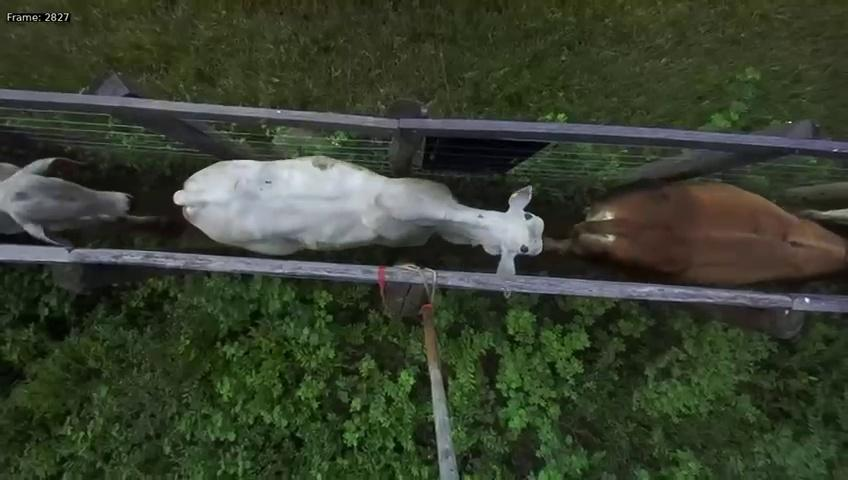cattle: (144, 128, 547, 273)
